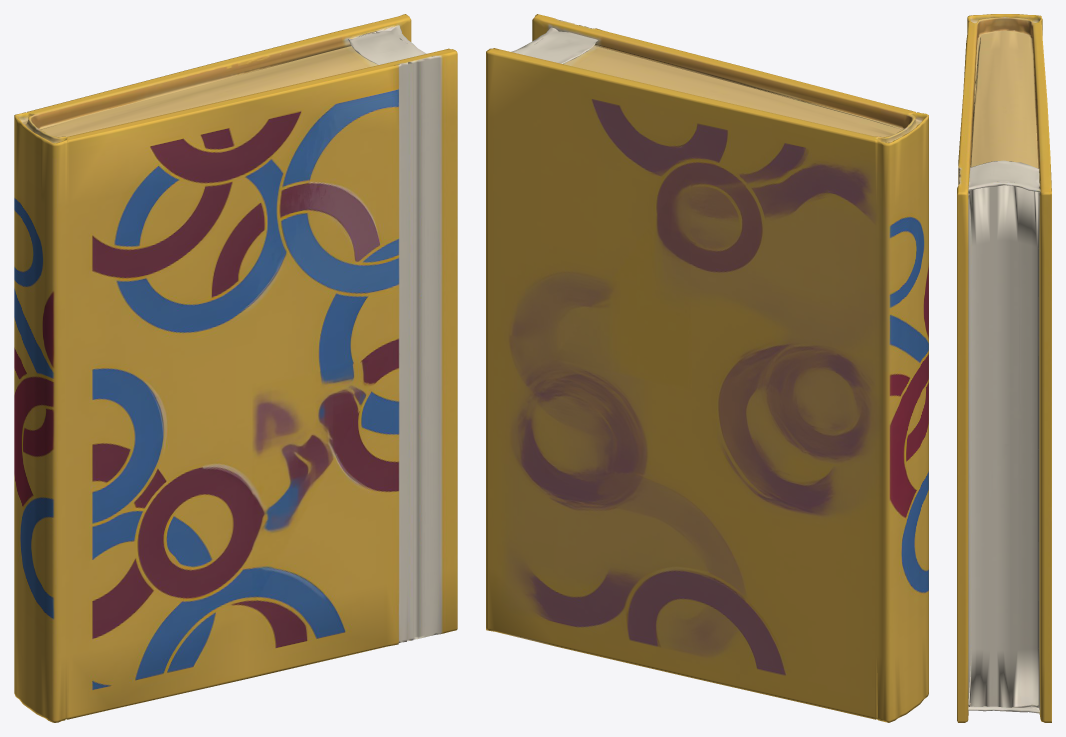
The model's file is get-together.glb.
3 renders of one model, left to right at view 1: azimuth 30°, elevation 25°; view 2: azimuth 150°, elevation 25°; view 3: azimuth 270°, elevation 25°, orthographic. The views are drawn at different scales.
Parts seen in each view (by area): view 1: Get Together; view 2: Get Together; view 3: Get Together.
Boxes of the visible parts, x1,y1,x2,y2 form: Get Together: (14, 14, 457, 722); Get Together: (486, 14, 928, 722); Get Together: (957, 14, 1051, 722).
Size of the model in its own units: 0.7246 by 0.998 by 0.1621.
1 material, 1 textured.
